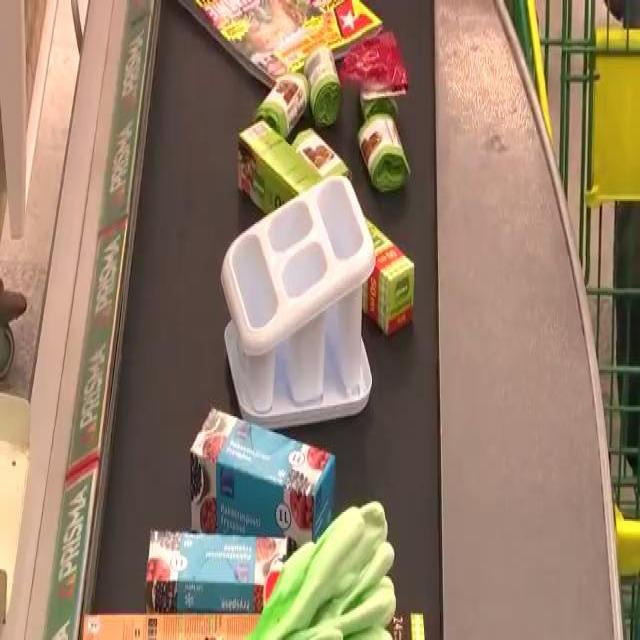food-box: (82, 604, 424, 638)
fruit: (248, 496, 402, 640)
utility-box: (232, 121, 413, 315), (238, 183, 375, 409), (190, 422, 339, 531), (172, 0, 366, 73), (142, 528, 288, 610), (348, 116, 412, 190), (277, 124, 354, 176), (256, 70, 310, 140), (306, 46, 352, 128)
